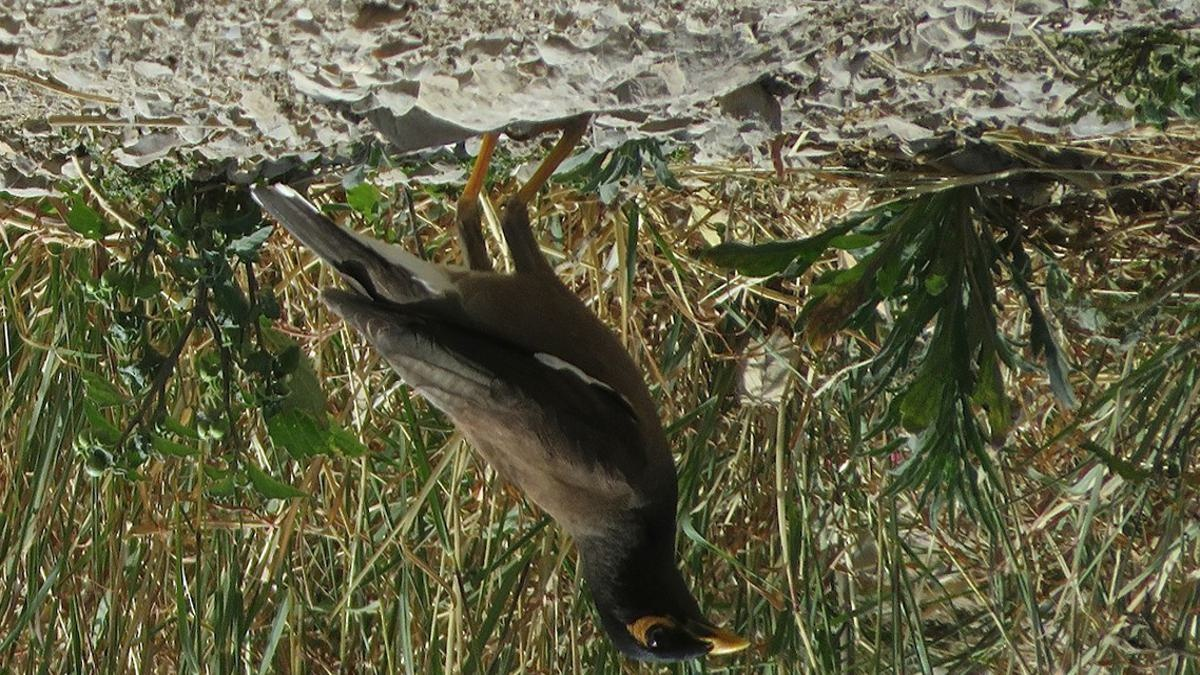myna: (333, 119, 760, 658)
